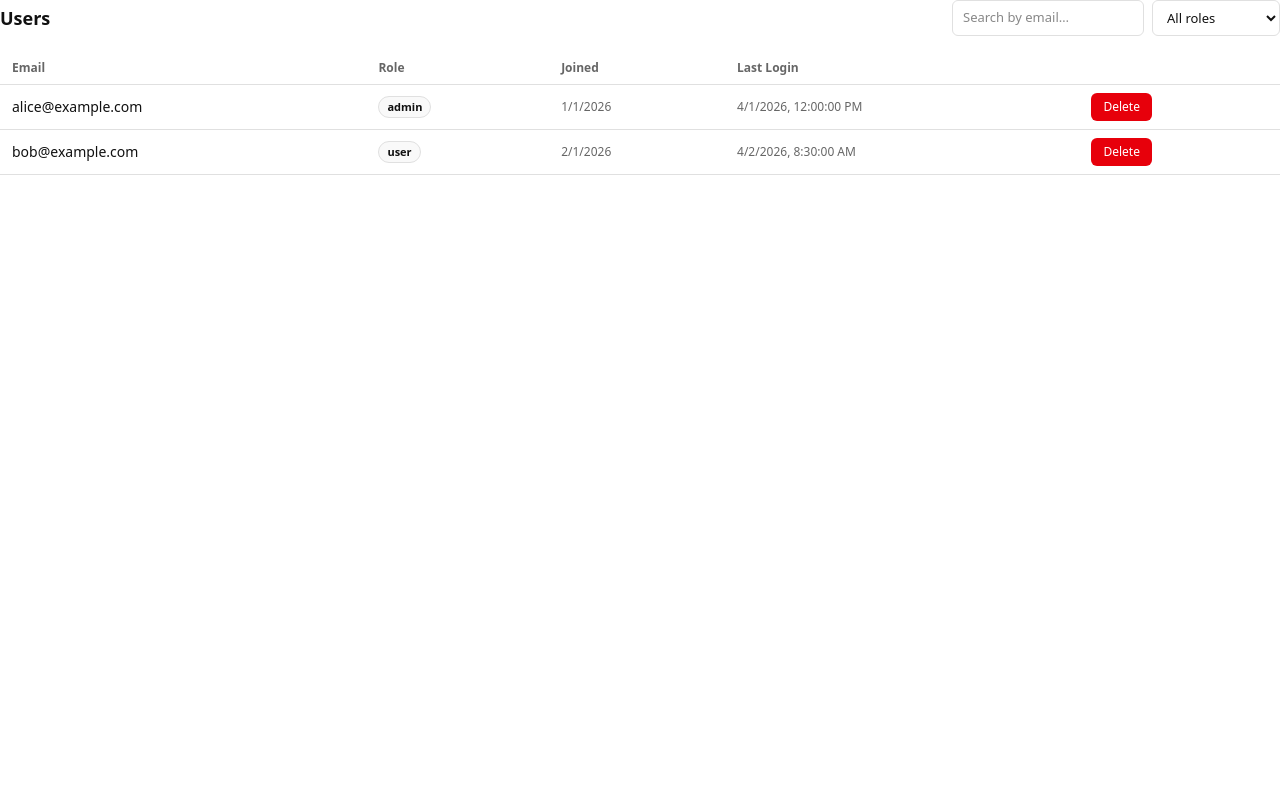
it: UsersPanel › deletes user on confirm and removes row
The width and height of the screenshot is (1280, 800).
Click the button "Delete" in the row of "alice@example.com".
click(1122, 107)  # box [1092,93,1152,121]
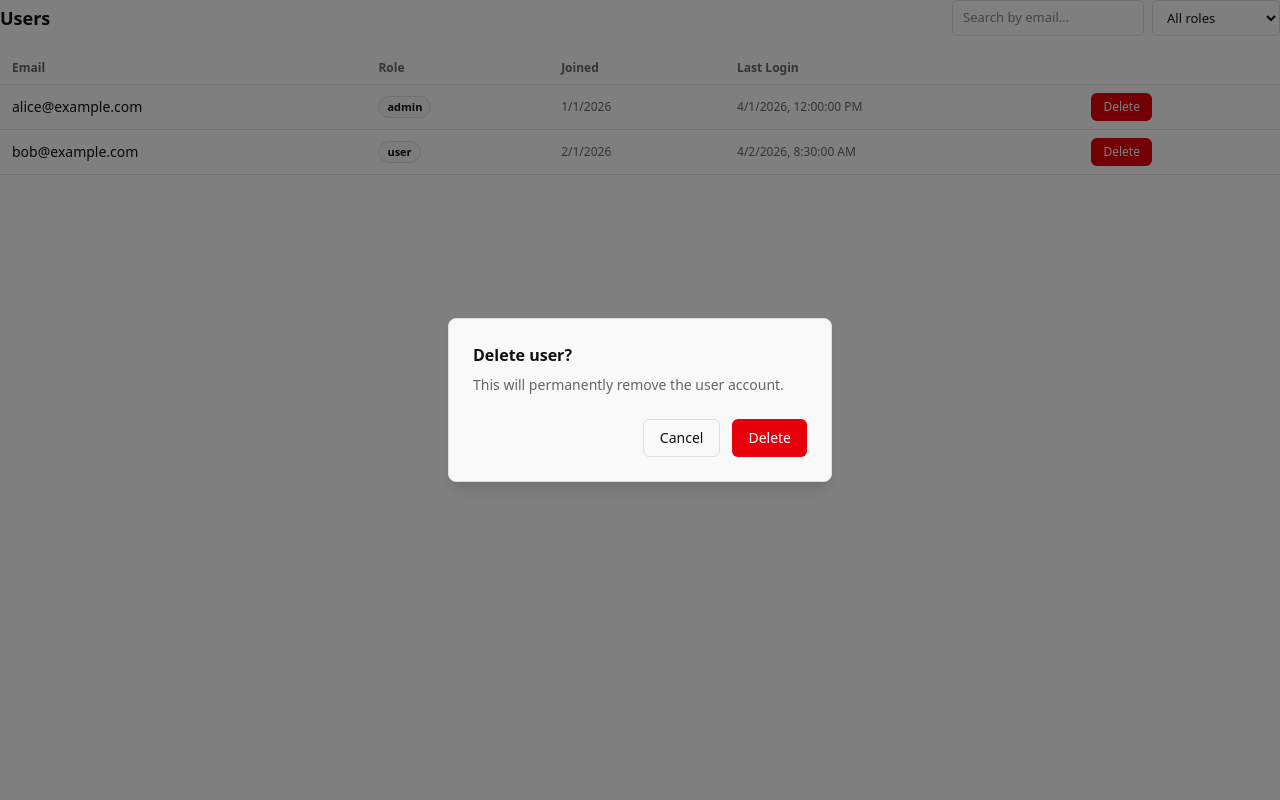
# Confirm in the dialog — last "Delete" button is the confirm
Click the button "Delete".
click(770, 438)  # box [732,419,807,457]
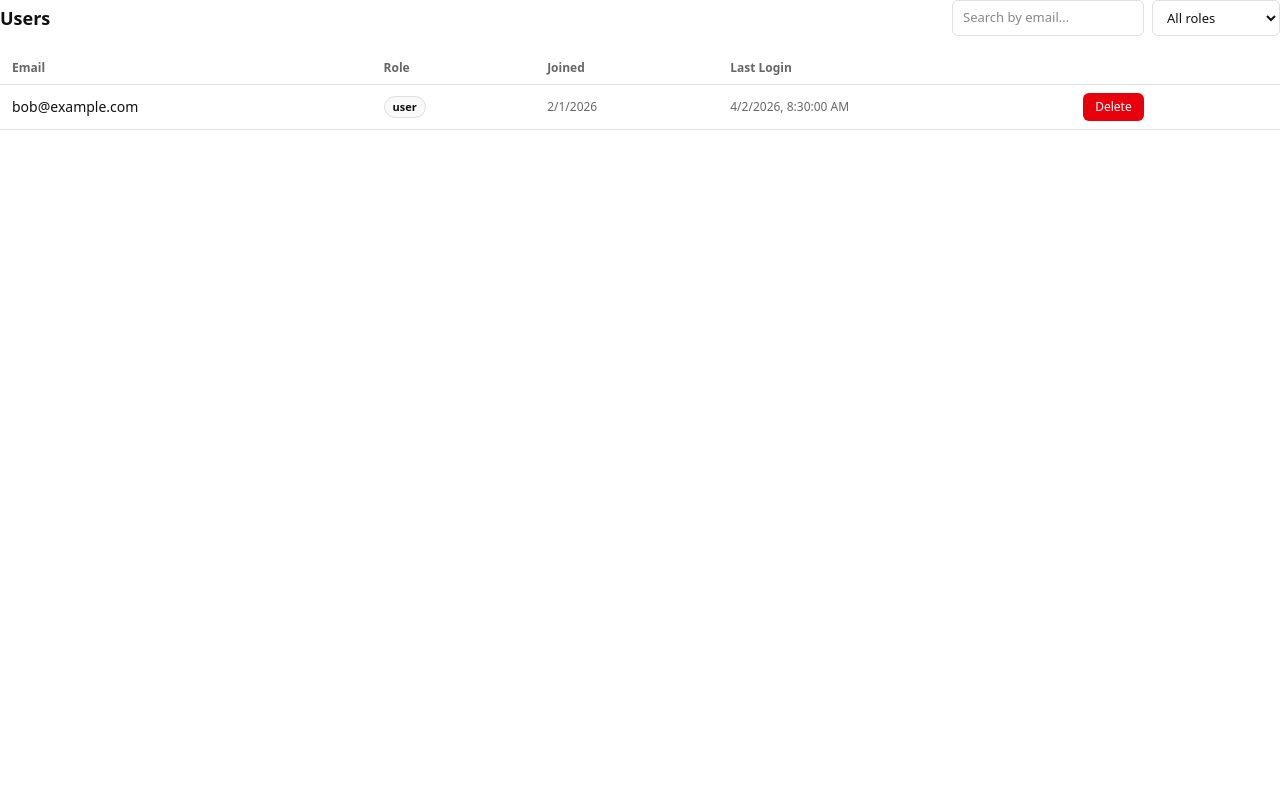
Check: the text "alice@example.com" is gone
